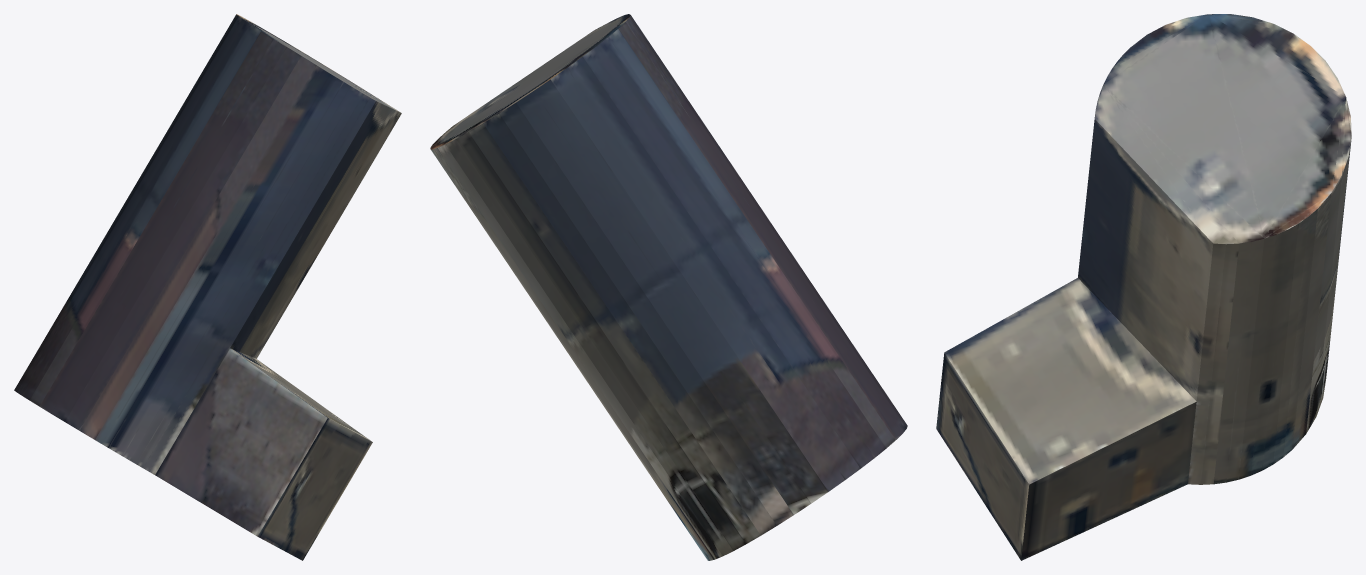
The picture shows the model from 3 angles, left to right: view 1: azimuth 30°, elevation 25°; view 2: azimuth 150°, elevation 25°; view 3: azimuth 270°, elevation 25°; orthographic projection. The views are drawn at different scales.
Parts seen in each view (by area): view 1: BAG_0599100000656913 (×6); view 2: BAG_0599100000656913 (×6); view 3: BAG_0599100000656913 (×7).
Boxes of the visible parts, x1,y1,x2,y2 form: BAG_0599100000656913 (×6): (14,14,401,560); BAG_0599100000656913 (×6): (430,14,907,560); BAG_0599100000656913 (×7): (936,14,1351,560).
Bounding box in the file's own units: 16.68 × 19.73 × 13.08.
Materials: 1 (1 with a texture image).
